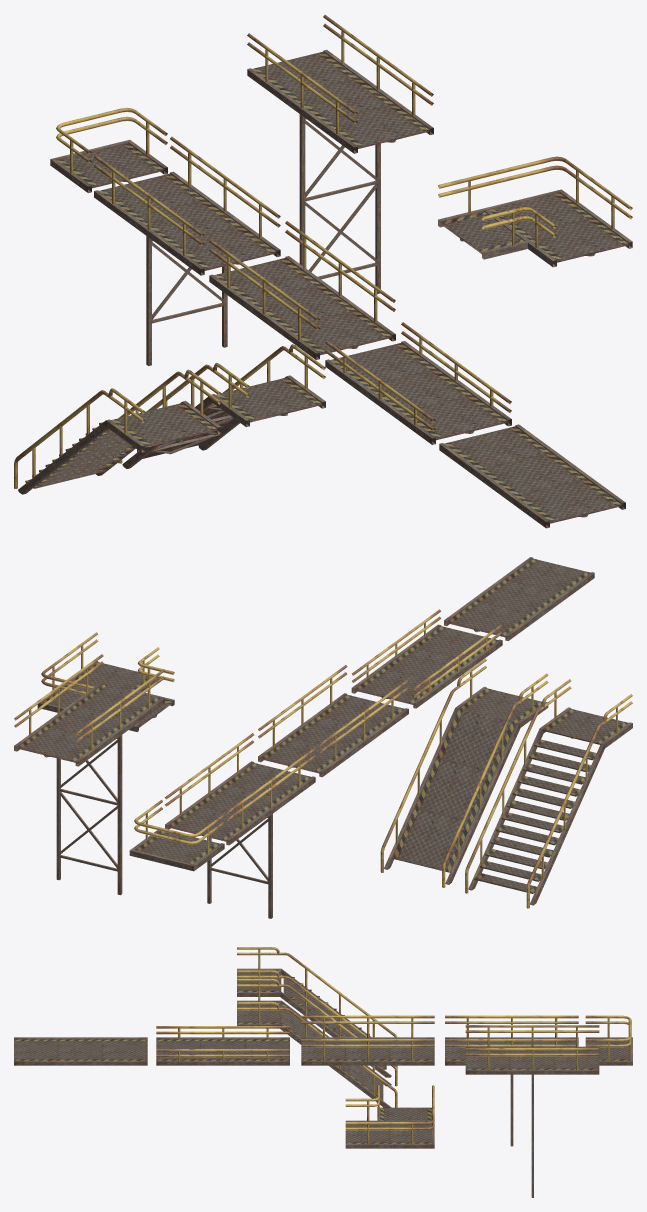
The model's file is Support_set_v1_bridge1.FBX.
The picture shows the model from 3 angles, top to bottom: view 1: azimuth 30°, elevation 25°; view 2: azimuth 150°, elevation 25°; view 3: azimuth 270°, elevation 25°; orthographic projection. The views are drawn at different scales.
Parts seen in each view (by area): view 1: Support_set_v1_bridge1_5, Support_set_v1_bridge1_1, Support_set_v1_bridge1_2, Support_set_v1_bridge1_B1, Support_set_v1_bridge1_3, Support_set_v1_bridge1_4, Support_set_v1_bridge1_S2, Support_set_v1_bridge1_S1, Support_set_v1_bridge1_E1; view 2: Support_set_v1_bridge1_S1, Support_set_v1_bridge1_S2, Support_set_v1_bridge1_5, Support_set_v1_bridge1_1, Support_set_v1_bridge1_2, Support_set_v1_bridge1_3, Support_set_v1_bridge1_4, Support_set_v1_bridge1_B1, Support_set_v1_bridge1_E1; view 3: Support_set_v1_bridge1_5, Support_set_v1_bridge1_2, Support_set_v1_bridge1_3, Support_set_v1_bridge1_S1, Support_set_v1_bridge1_S2, Support_set_v1_bridge1_4, Support_set_v1_bridge1_B1, Support_set_v1_bridge1_1, Support_set_v1_bridge1_E1.
Boxes of the visible parts, bbox=[...] form: Support_set_v1_bridge1_5: bbox=[247, 15, 433, 293]; Support_set_v1_bridge1_1: bbox=[94, 136, 280, 365]; Support_set_v1_bridge1_2: bbox=[209, 221, 395, 359]; Support_set_v1_bridge1_B1: bbox=[438, 156, 632, 267]; Support_set_v1_bridge1_3: bbox=[325, 322, 511, 444]; Support_set_v1_bridge1_4: bbox=[439, 424, 625, 528]; Support_set_v1_bridge1_S2: bbox=[14, 369, 221, 494]; Support_set_v1_bridge1_S1: bbox=[118, 344, 325, 468]; Support_set_v1_bridge1_E1: bbox=[50, 107, 167, 192]; Support_set_v1_bridge1_S1: bbox=[380, 658, 548, 887]; Support_set_v1_bridge1_S2: bbox=[465, 679, 632, 908]; Support_set_v1_bridge1_5: bbox=[14, 654, 164, 895]; Support_set_v1_bridge1_1: bbox=[165, 733, 315, 918]; Support_set_v1_bridge1_2: bbox=[258, 665, 408, 777]; Support_set_v1_bridge1_3: bbox=[351, 609, 502, 708]; Support_set_v1_bridge1_4: bbox=[444, 557, 594, 640]; Support_set_v1_bridge1_B1: bbox=[37, 632, 174, 732]; Support_set_v1_bridge1_E1: bbox=[129, 800, 224, 871]; Support_set_v1_bridge1_5: bbox=[465, 1025, 599, 1197]; Support_set_v1_bridge1_2: bbox=[301, 1015, 434, 1065]; Support_set_v1_bridge1_3: bbox=[156, 1026, 289, 1065]; Support_set_v1_bridge1_S1: bbox=[237, 979, 397, 1107]; Support_set_v1_bridge1_S2: bbox=[237, 947, 397, 1077]; Support_set_v1_bridge1_4: bbox=[14, 1037, 147, 1065]; Support_set_v1_bridge1_B1: bbox=[345, 1085, 434, 1148]; Support_set_v1_bridge1_1: bbox=[445, 1015, 578, 1146]; Support_set_v1_bridge1_E1: bbox=[585, 1015, 632, 1065].
Bounding box in the file's own units: 15.16 × 6 × 22.5.
